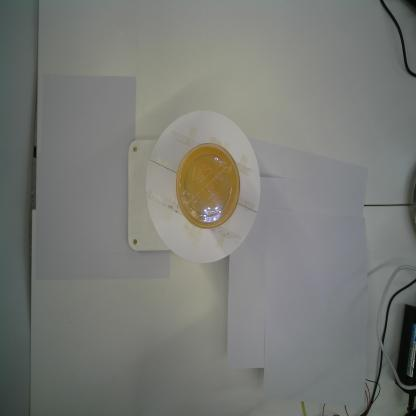Instant Drink: (176, 142, 241, 229)
